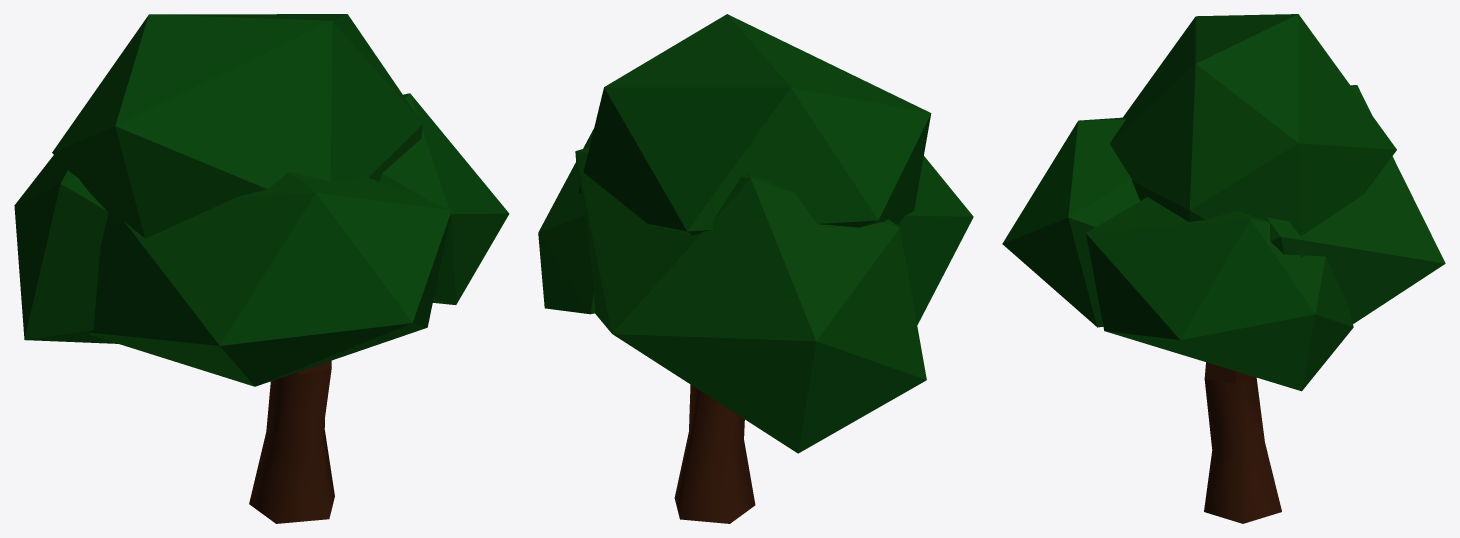
File: Tree 3.FBX
3 renders of one model, left to right at view 1: azimuth 30°, elevation 25°; view 2: azimuth 150°, elevation 25°; view 3: azimuth 270°, elevation 25°, orthographic. The views are drawn at different scales.
Visible parts, largest first — view 1: Tree round12, Tree round015, Tree round014, Treetrunk12, Tree round013; view 2: Tree round014, Tree round12, Treetrunk12, Tree round015, Tree round013; view 3: Tree round12, Tree round013, Tree round015, Tree round014, Treetrunk12.
Boxes of the visible parts, x1,y1,x2,y2 form: Tree round12: (52, 14, 422, 238); Tree round015: (88, 171, 451, 386); Tree round014: (14, 155, 117, 343); Treetrunk12: (249, 361, 334, 523); Tree round013: (379, 93, 509, 304); Tree round014: (575, 147, 926, 453); Tree round12: (578, 14, 931, 235); Treetrunk12: (674, 384, 755, 523); Tree round015: (895, 156, 973, 324); Tree round013: (538, 129, 595, 314); Tree round12: (1110, 14, 1396, 257); Tree round013: (1086, 197, 1353, 391); Tree round015: (1002, 117, 1139, 327); Tree round014: (1265, 85, 1445, 323); Treetrunk12: (1204, 362, 1281, 523).
Size of the model in its own units: 39.48 by 44.19 by 39.7.
